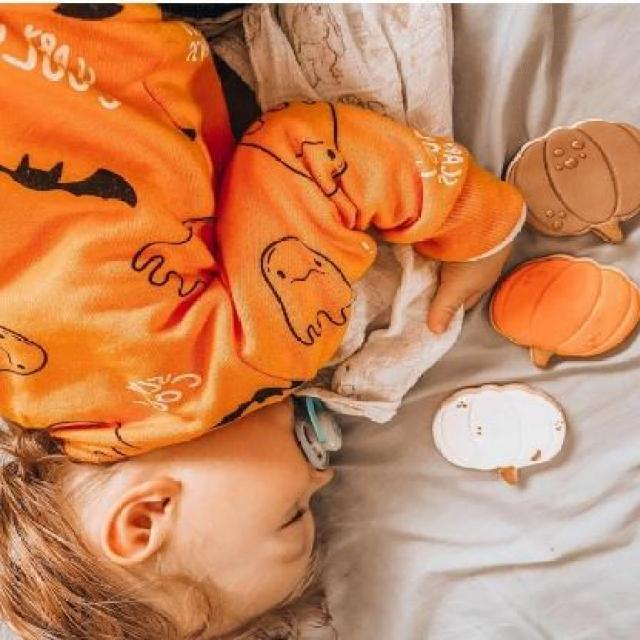baby: (0, 1, 526, 640)
